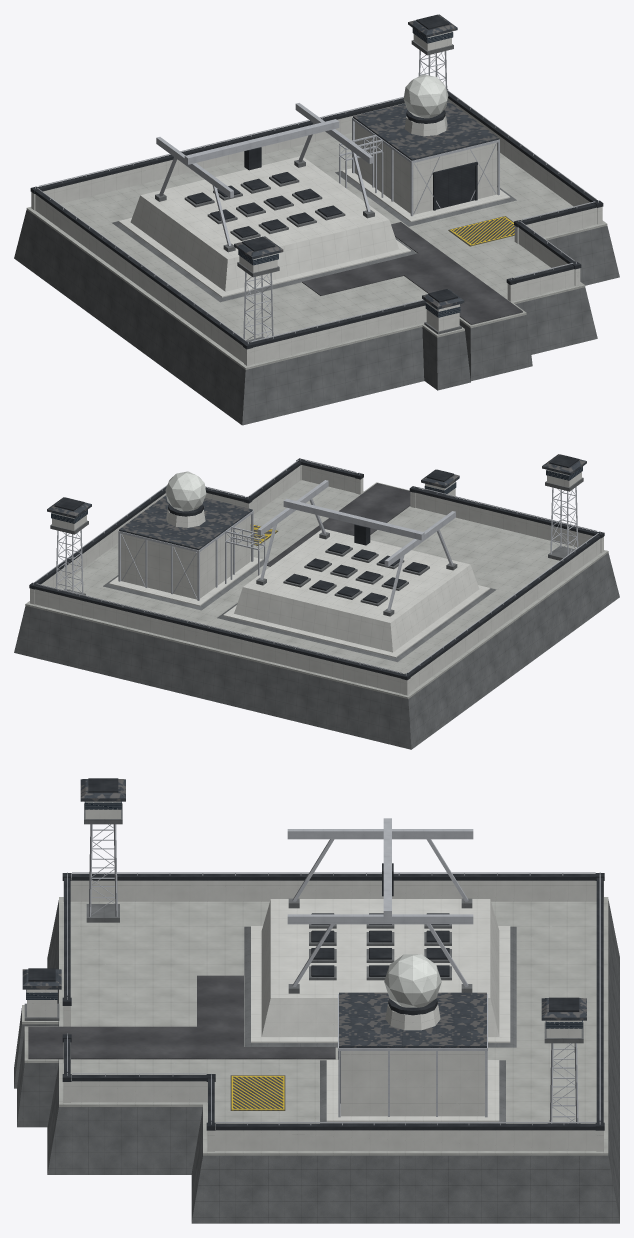
File: abm_silo_lvl3.glb
3 views of the same model, one above another, from view 1: azimuth 30°, elevation 25°; view 2: azimuth 150°, elevation 25°; view 3: azimuth 270°, elevation 25° (orthographic). The views are drawn at different scales.
Visible parts, largest first — view 1: SLO_L3_ConcLight, SLO_L3_ConcDark, SLO_L3_ConcMid, SLO_L3_SteelDark, SLO_L3_SteelTruss, SLO_L3_Asphalt, SLO_L3_RoofCorr, SLO_L3_Radome, SLO_L3_DoorCorr, SLO_L3_HatchZone, SLO_L3_WindowDark; view 2: SLO_L3_ConcLight, SLO_L3_ConcDark, SLO_L3_ConcMid, SLO_L3_SteelDark, SLO_L3_SteelTruss, SLO_L3_RoofCorr, SLO_L3_Asphalt, SLO_L3_Radome, SLO_L3_WindowDark; view 3: SLO_L3_ConcLight, SLO_L3_ConcDark, SLO_L3_ConcMid, SLO_L3_SteelDark, SLO_L3_SteelTruss, SLO_L3_Asphalt, SLO_L3_RoofCorr, SLO_L3_Radome, SLO_L3_HatchZone, SLO_L3_WindowDark.
Boxes of the visible parts, left/top/right/bottom form: SLO_L3_ConcLight: left=31, top=31, right=602, bottom=365; SLO_L3_ConcDark: left=14, top=40, right=619, bottom=425; SLO_L3_ConcMid: left=26, top=132, right=607, bottom=369; SLO_L3_SteelDark: left=30, top=14, right=603, bottom=349; SLO_L3_SteelTruss: left=35, top=50, right=598, bottom=343; SLO_L3_Asphalt: left=302, top=222, right=522, bottom=324; SLO_L3_RoofCorr: left=234, top=14, right=499, bottom=309; SLO_L3_Radome: left=403, top=74, right=448, bottom=118; SLO_L3_DoorCorr: left=436, top=165, right=474, bottom=209; SLO_L3_HatchZone: left=448, top=216, right=514, bottom=246; SLO_L3_WindowDark: left=238, top=28, right=460, bottom=317; SLO_L3_ConcLight: left=30, top=465, right=603, bottom=695; SLO_L3_ConcDark: left=14, top=477, right=619, bottom=749; SLO_L3_ConcMid: left=25, top=480, right=608, bottom=698; SLO_L3_SteelDark: left=29, top=454, right=604, bottom=680; SLO_L3_SteelTruss: left=33, top=458, right=600, bottom=675; SLO_L3_RoofCorr: left=47, top=454, right=586, bottom=550; SLO_L3_Asphalt: left=267, top=483, right=410, bottom=566; SLO_L3_Radome: left=165, top=471, right=206, bottom=511; SLO_L3_WindowDark: left=51, top=466, right=582, bottom=523; SLO_L3_ConcLight: left=26, top=801, right=603, bottom=1151; SLO_L3_ConcDark: left=14, top=803, right=619, bottom=1223; SLO_L3_ConcMid: left=22, top=897, right=608, bottom=1155; SLO_L3_SteelDark: left=28, top=778, right=604, bottom=1130; SLO_L3_SteelTruss: left=67, top=818, right=600, bottom=1125; SLO_L3_Asphalt: left=28, top=975, right=335, bottom=1059; SLO_L3_RoofCorr: left=22, top=779, right=586, bottom=1047; SLO_L3_Radome: left=384, top=954, right=441, bottom=1007; SLO_L3_HatchZone: left=230, top=1075, right=285, bottom=1110; SLO_L3_WindowDark: left=26, top=801, right=582, bottom=1028.
Bounding box in the file's own units: 87.5 × 31.16 × 84.15.
Materials: 11 (11 with a texture image).
